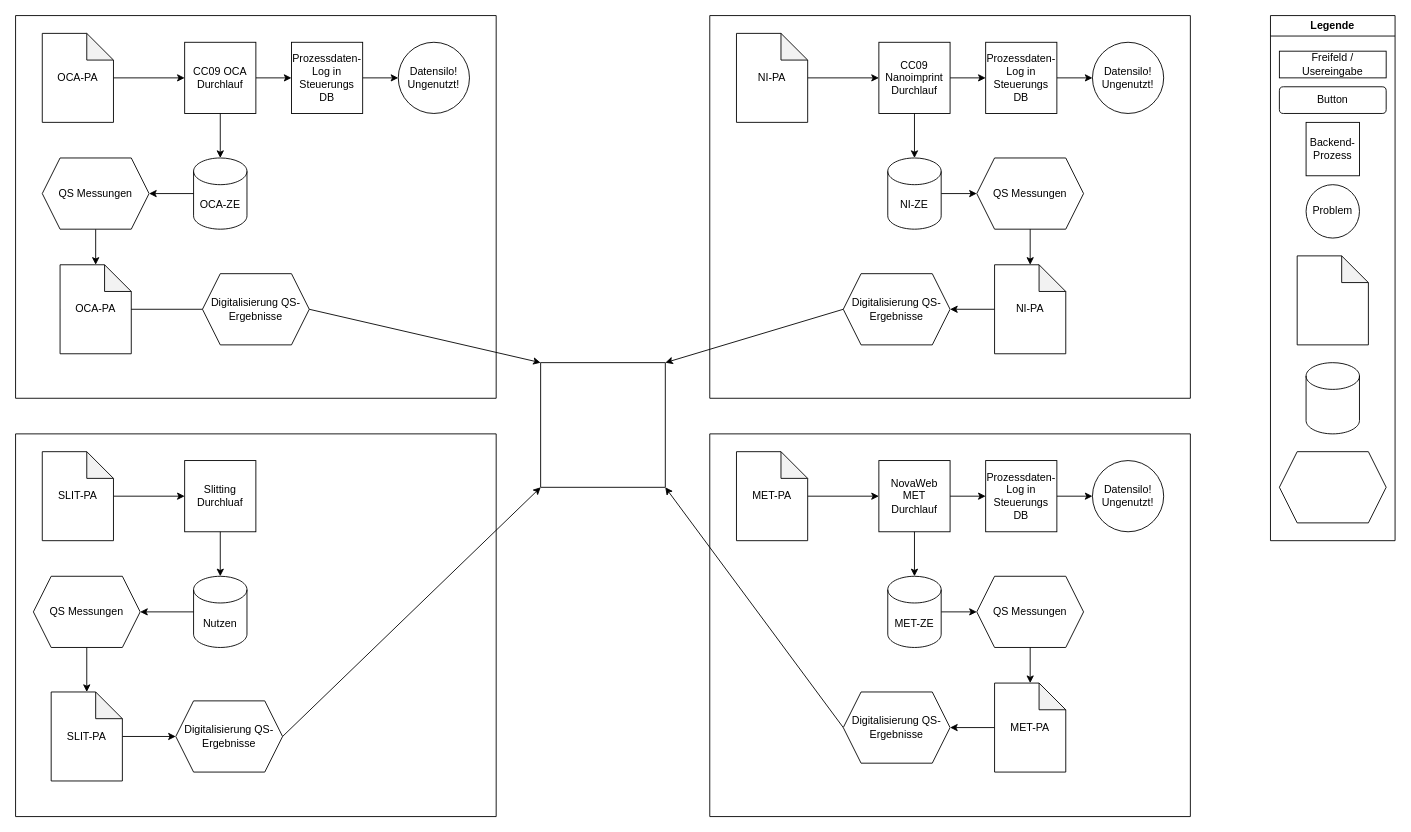
Image size: 1411x832. Some labels were removed from this diagram. The shapes that lost their labels are listed below. From the top down, each one's centre as x and y in pixels, then its label:
At point 1332,300: "Dokument (analog)".
At point 1332,398: "Objekt".
At point 602,424: "QS-Excel DB".
At point 1332,487: "Menschlich getriebener Prozess".
